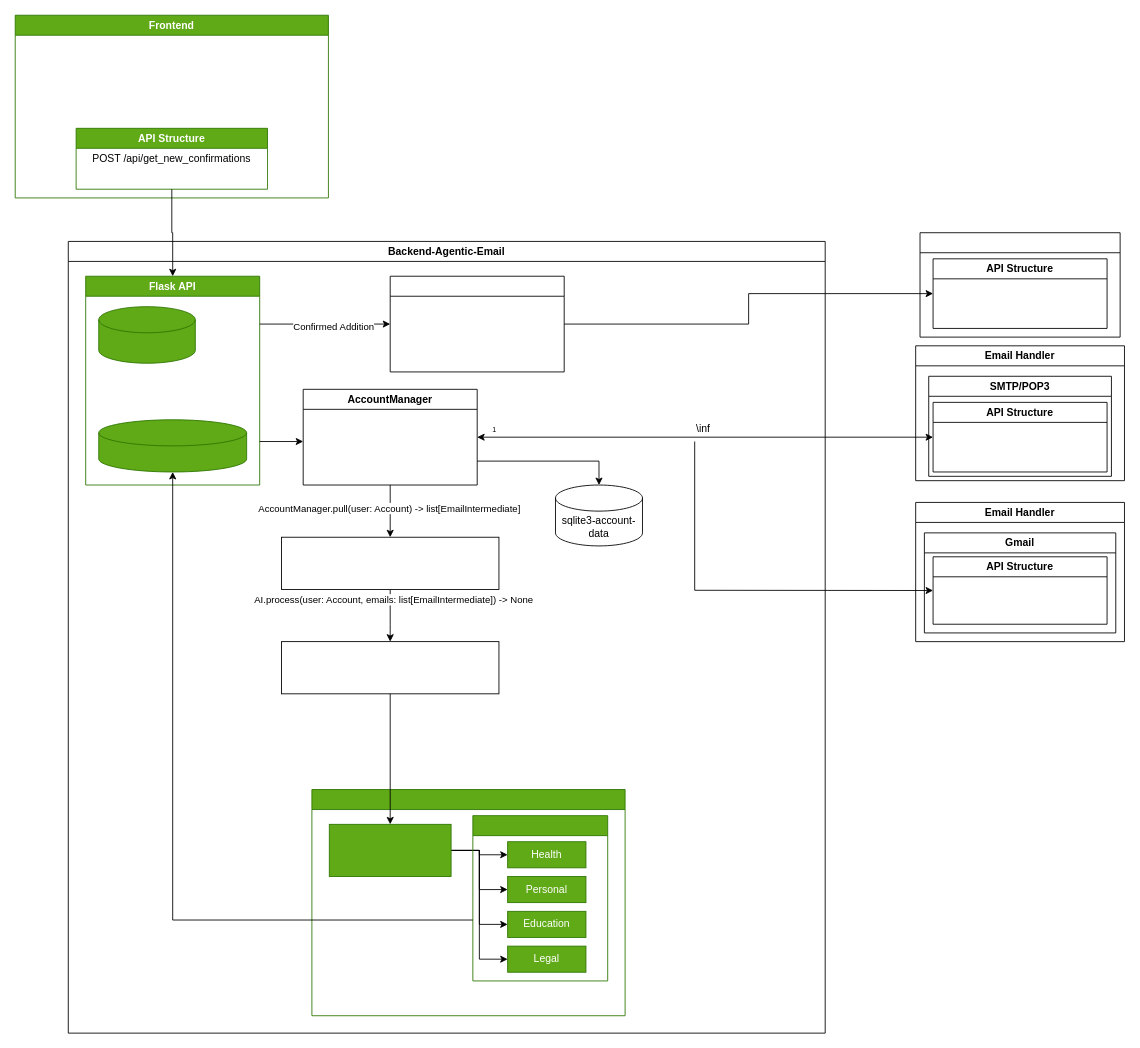
Some shapes in this 1140 by 1048 pixel diagram are drawn without their labels. The shapes that lost their labels are listed below. From the top down, each one's box as (x1, y1, x2, y2) in pixels, then its label:
(919, 232, 1120, 337): B4iGO Service
(98, 306, 195, 363): sqlite3-authetication (TEMP)
(389, 275, 564, 372): B4iGO API
(98, 419, 247, 472): sqlite3-confirmation-queue (in memory database)
(281, 536, 499, 589): Account Pull Scheduler
(281, 641, 499, 694): Email Security
(328, 823, 451, 877): Email Domain Classifier
(311, 789, 625, 1016): AI-Runtime
(472, 815, 608, 981): Domain Parser
